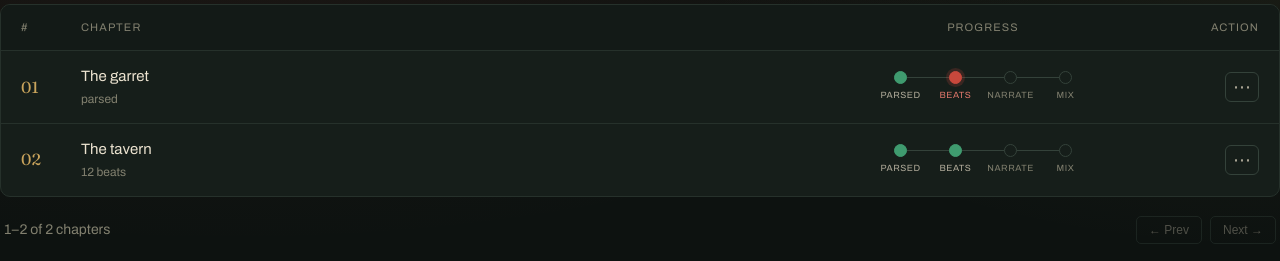
Test case: ChaptersTable › offers Review, Extract, and Narrate from the row's ⋯ menu
Click the button named "Chapter actions". click: (1242, 87)
box: [1225,72,1259,102]
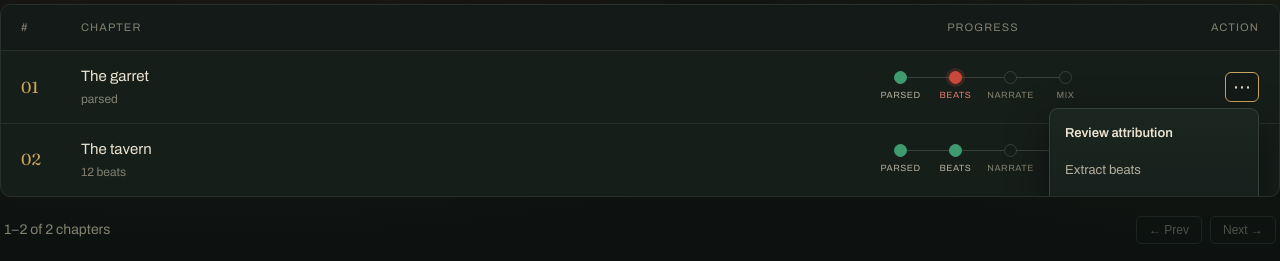
Check: the menu item "Review attribution" is shown, box [1065,126,1173,140]
Check: the menu item "Extract beats" is shown, box [1055,154,1253,186]
